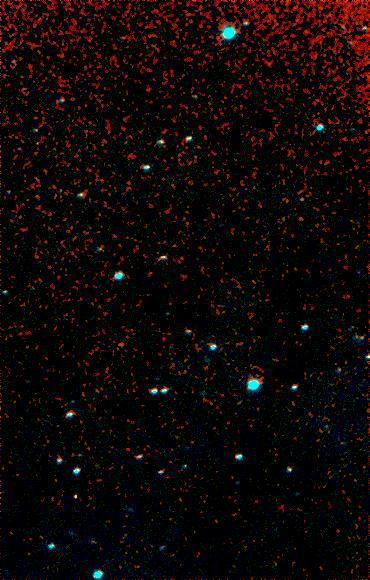star: (60, 481, 90, 511)
